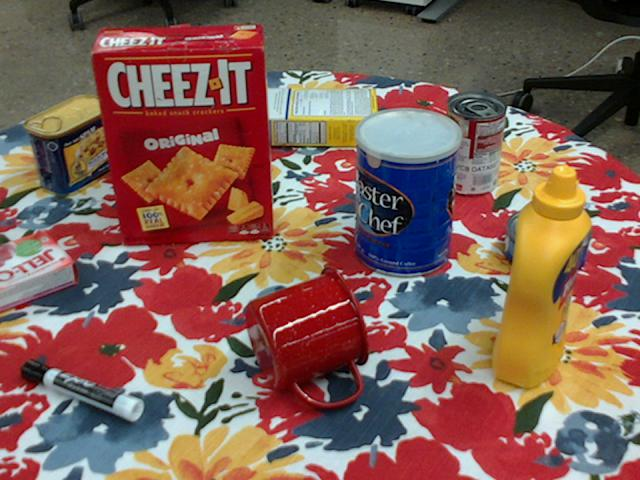cracker_box: (91, 25, 272, 241)
gelatin_box: (0, 230, 79, 312)
large_marker: (21, 357, 143, 421)
master_chef_can: (355, 108, 460, 278)
mug: (244, 266, 372, 408)
mustard_bottle: (491, 166, 590, 388)
potted_meat_can: (23, 93, 116, 194)
sugar_box: (235, 86, 375, 147)
tomato_soup_can: (440, 91, 505, 196)
tuna_fish_can: (503, 208, 590, 279)
